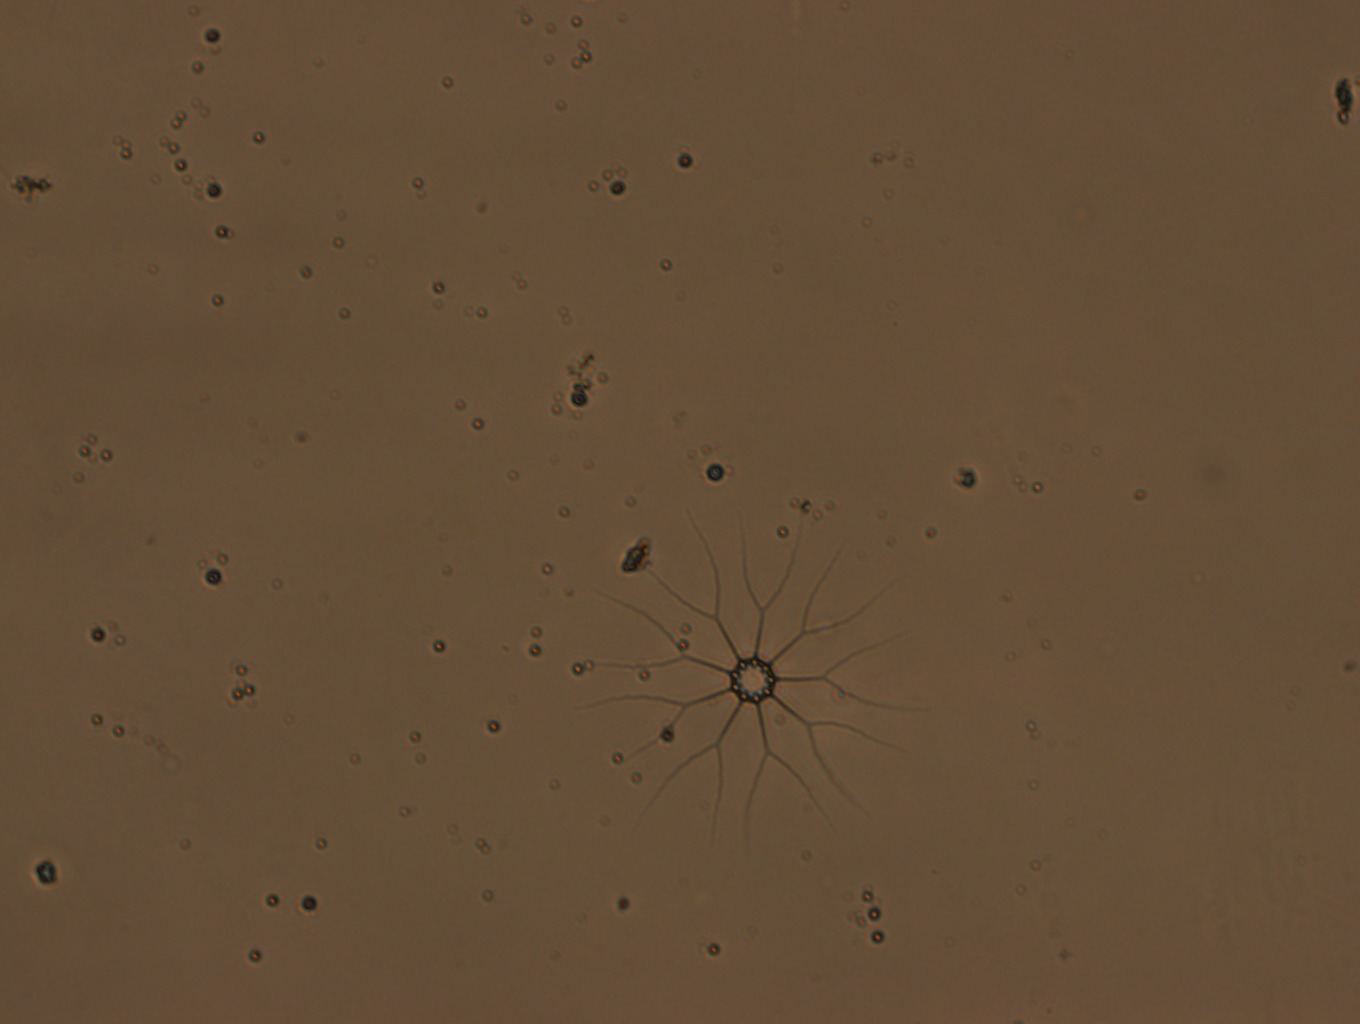bacteriastrum: (571, 517, 937, 847)
